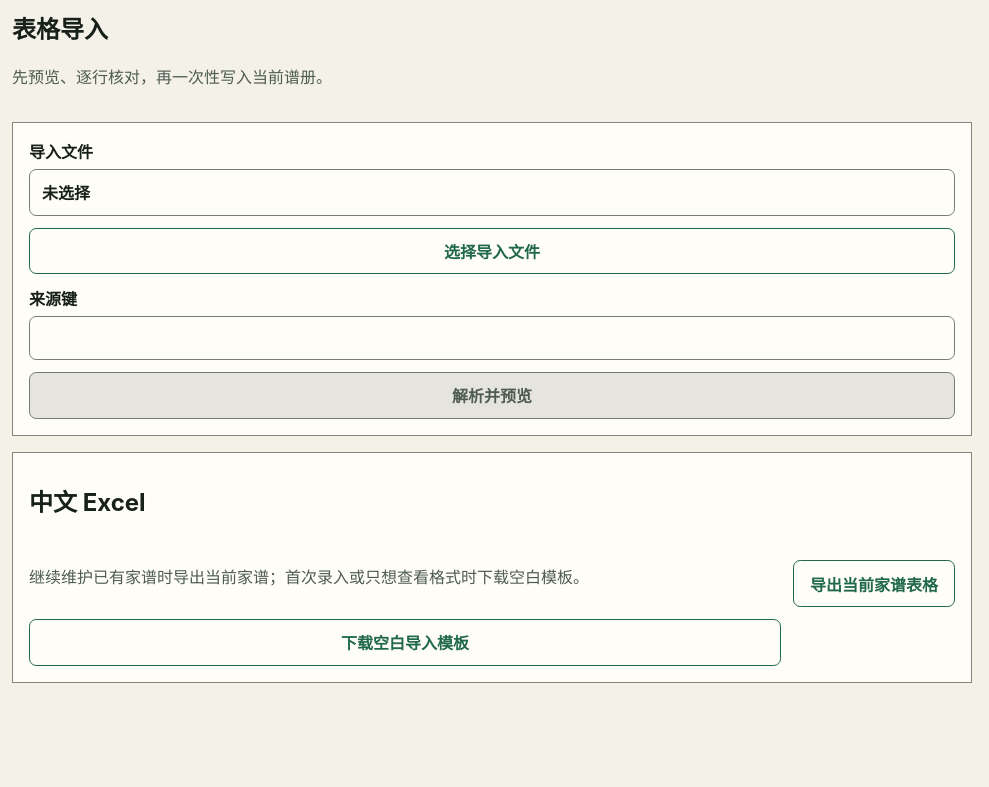
Test: ImportPreview › shows a sanitized error when file selection rejects
Click the button "选择导入文件". click: {"x": 492, "y": 251}
box: [29,228,955,274]
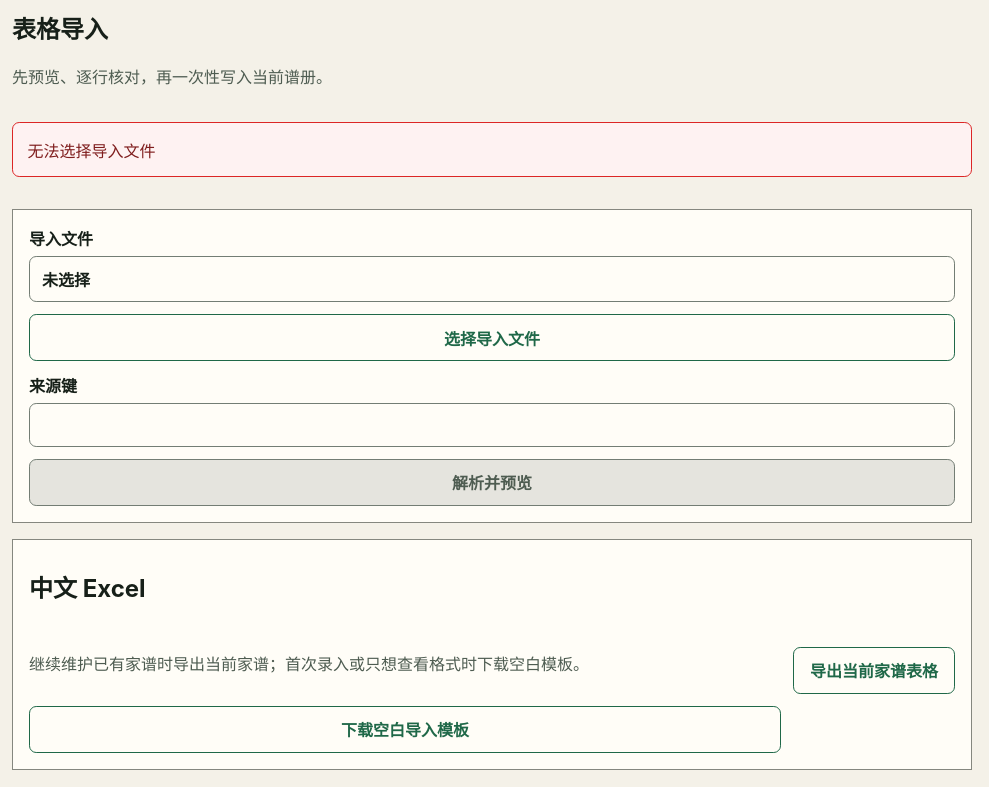
Now the message reads "无法选择导入文件", box [27,141,155,161]
